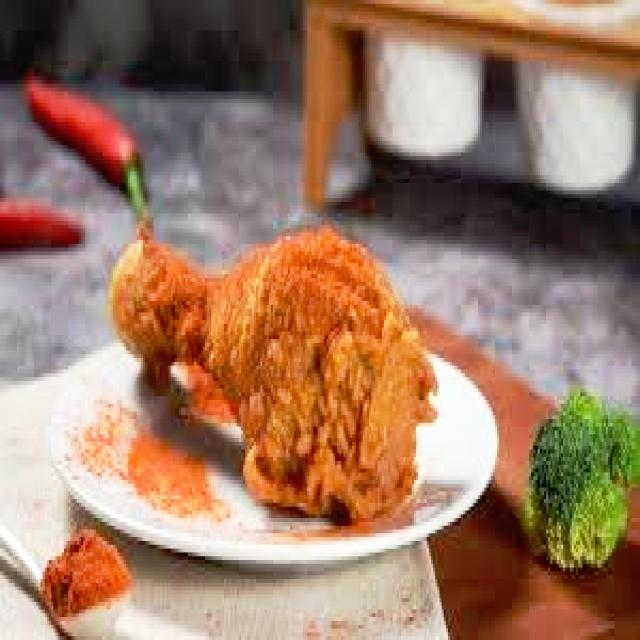fried_chicken: (109, 240, 433, 518)
